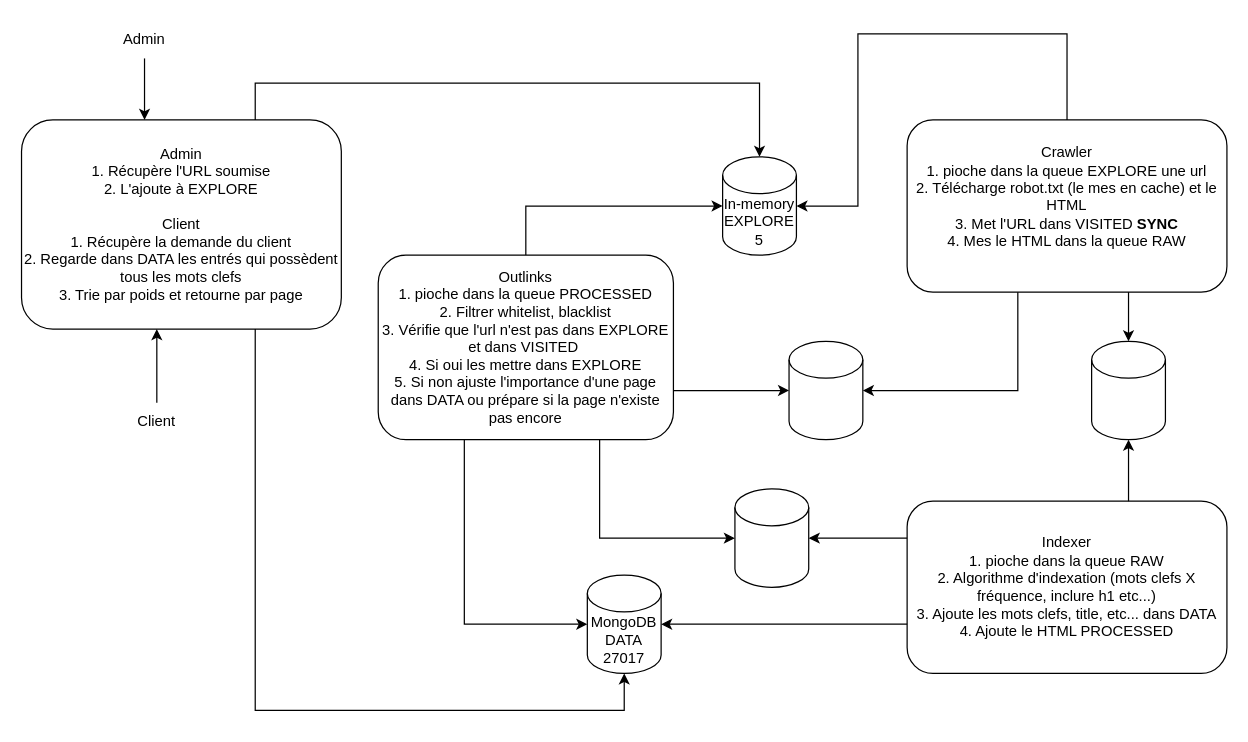
This 1248x742 diagram has some shape labels left out. The shapes that lost their labels are listed below. From the top down, each one's centre as x and y in pixels, then its label:
At point (825, 390): "Redis VISITED 3".
At point (1127, 390): "In-memory RAW 0".
At point (771, 537): "In-memory PROCESSED 1".
